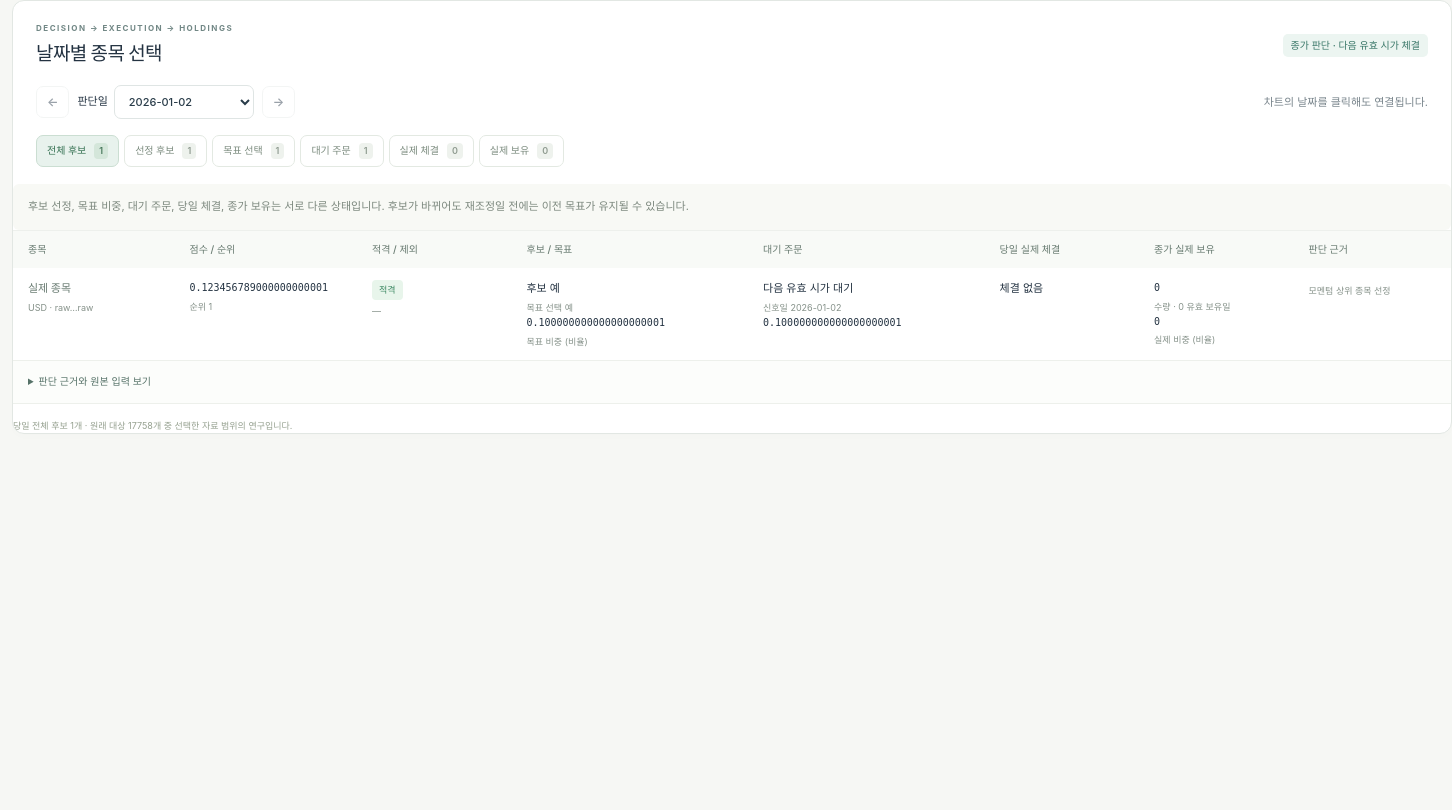
Test: renders distinct target, pending, fill and holdings stages with exact source references
This screenshot has width=1452, height=810.
Expected: the 1st text "0.100000000000000000001" is shown, [526, 317, 665, 328]
Expected: the text "0.123456789000000000001" is shown, [190, 280, 342, 296]
Click the button "실제 보유 0" at point(521, 151), box [479, 135, 564, 167]
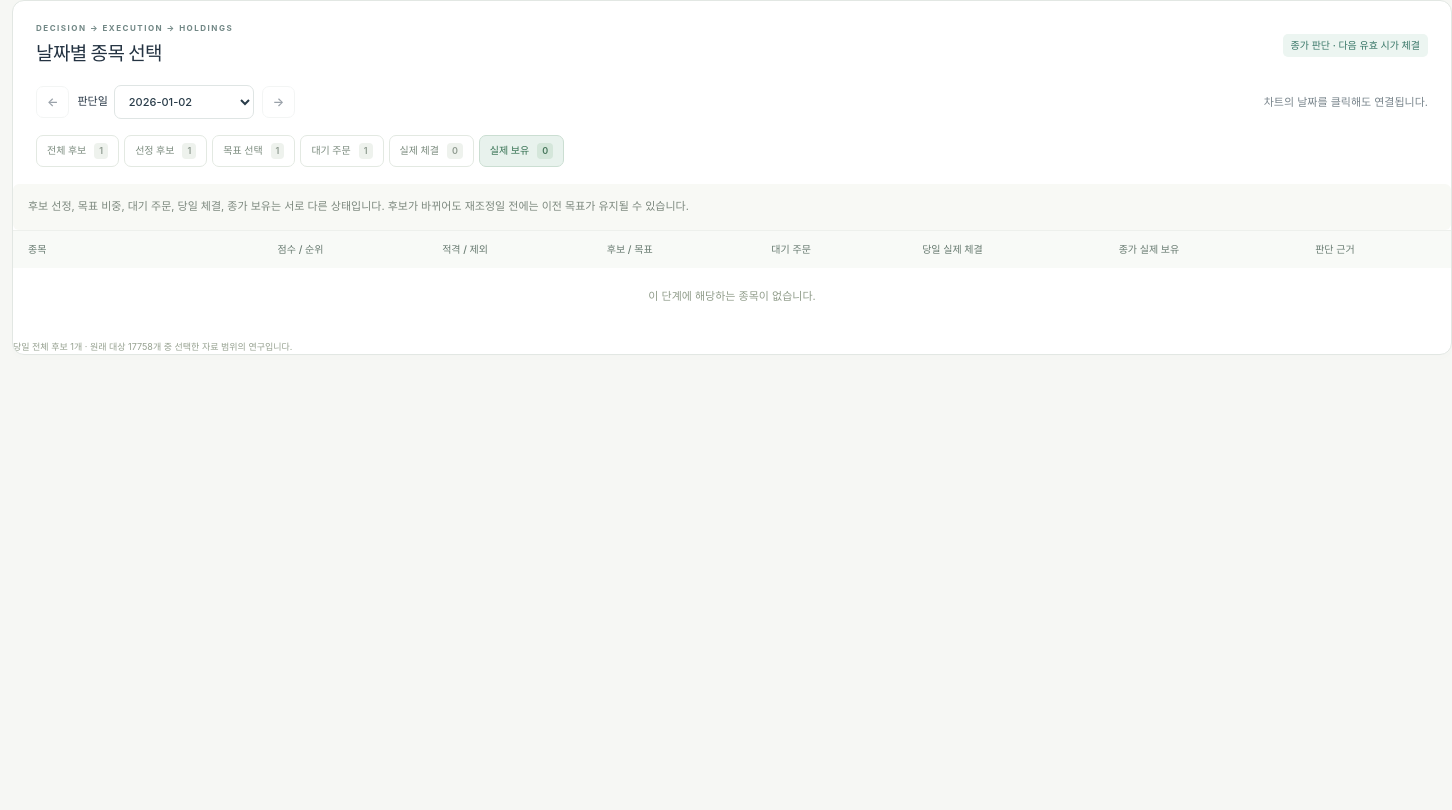
Expected: the text "이 단계에 해당하는 종목이 없습니다." is shown, [648, 289, 816, 303]
Click the button "대기 주문 1" at point(342, 151), box [300, 135, 384, 167]
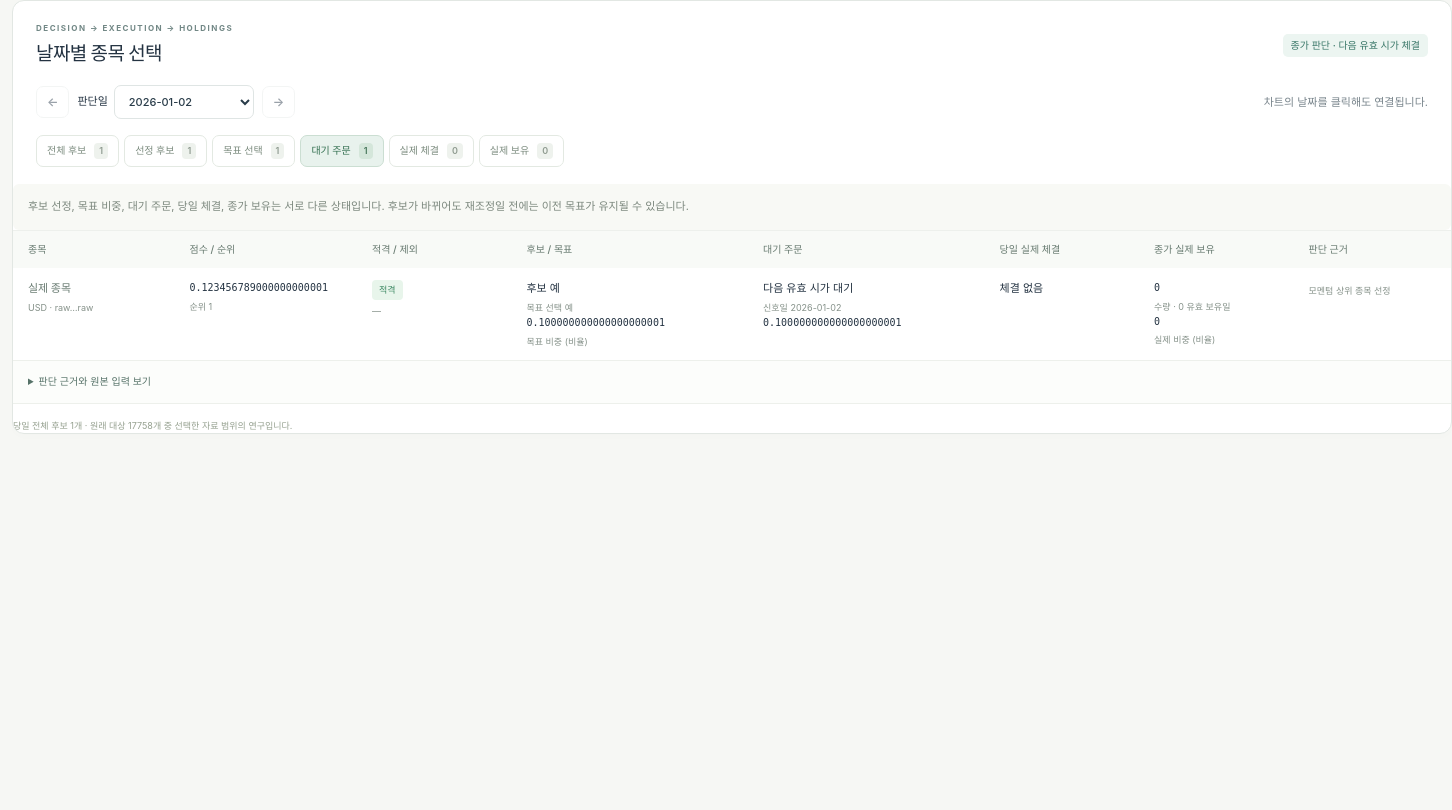
Expected: the text "실제 종목" is shown, [28, 281, 71, 295]
Click the heading "판단 근거와 원본 입력 보기" at point(95, 382), box [39, 376, 151, 388]
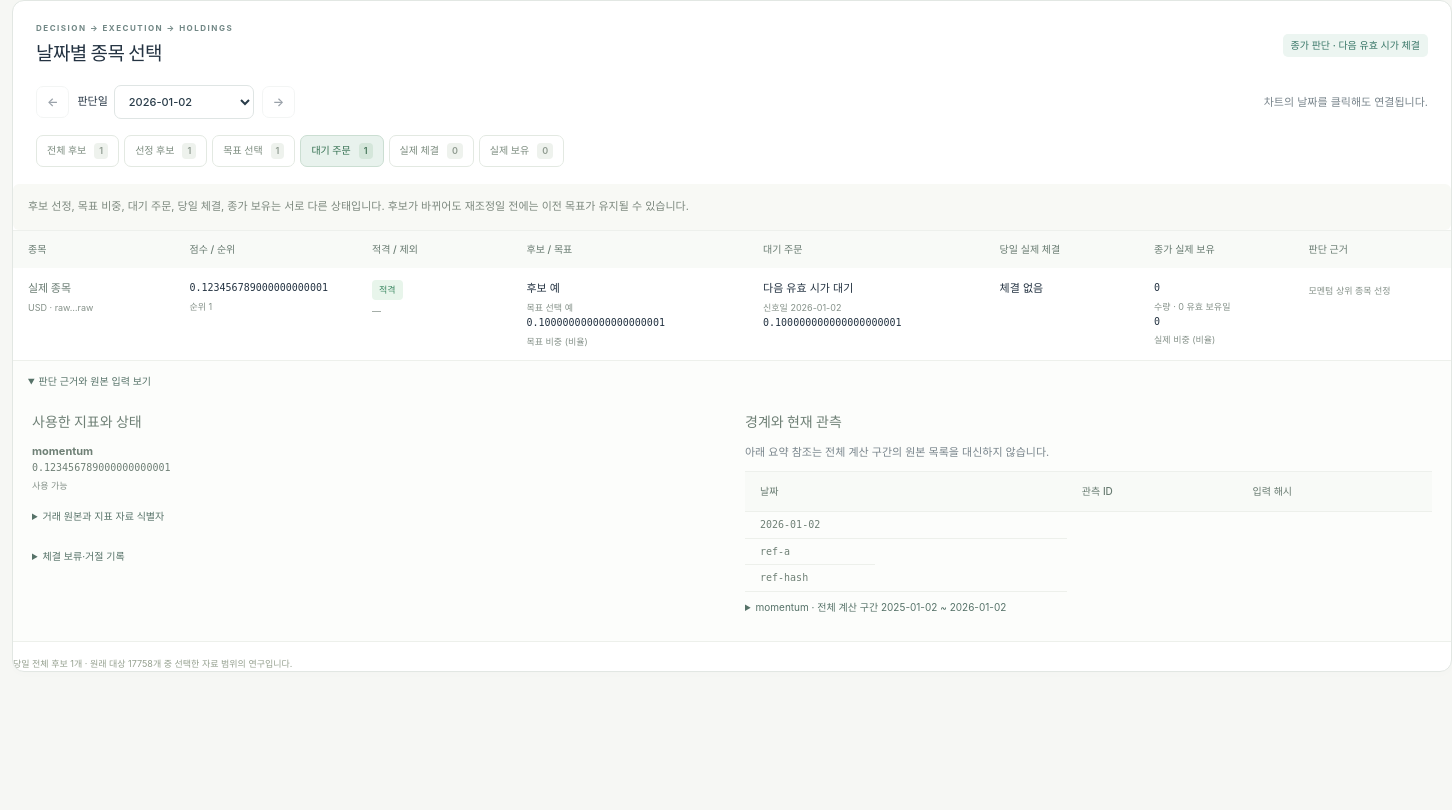
Expected: the heading "경계와 현재 관측" is shown, [745, 413, 842, 430]
